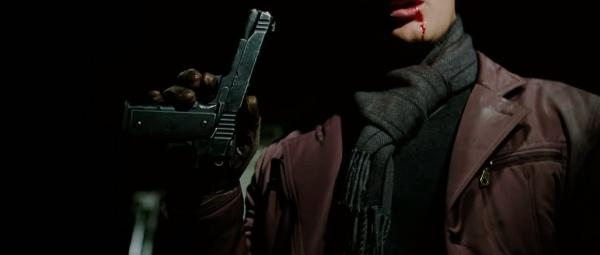Gun: (122, 7, 277, 164)
